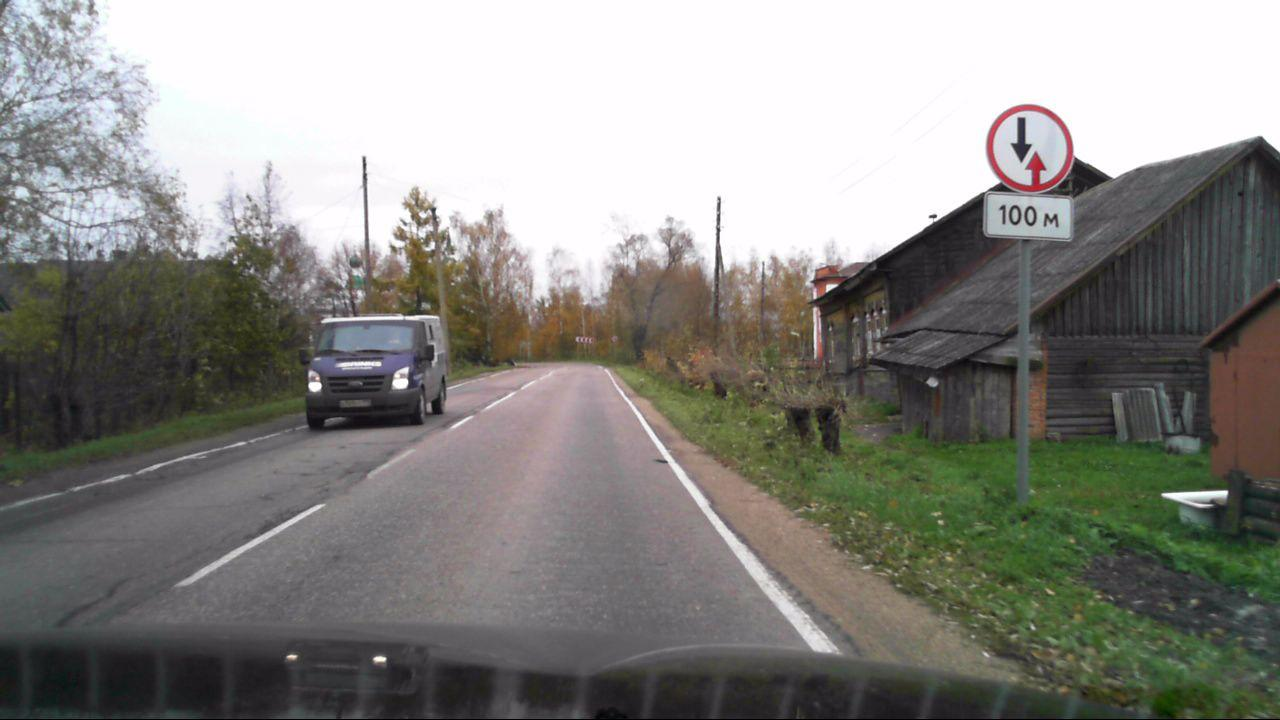1_34_2: (576, 335, 595, 345)
2_6: (984, 105, 1074, 194)
8_1_1: (986, 196, 1074, 237)
